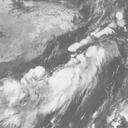cyclone: (57, 62, 94, 106)
